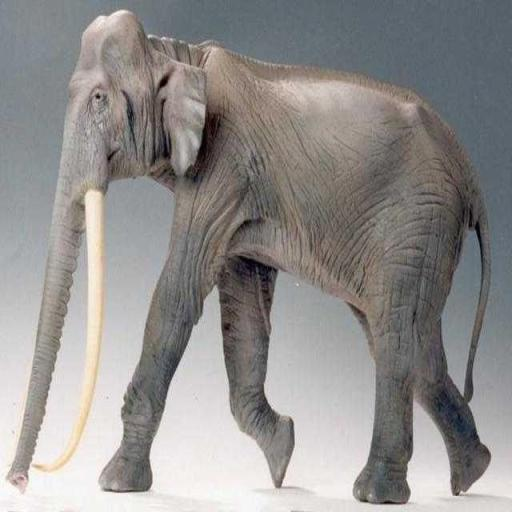Elephant: (5, 8, 492, 504)
